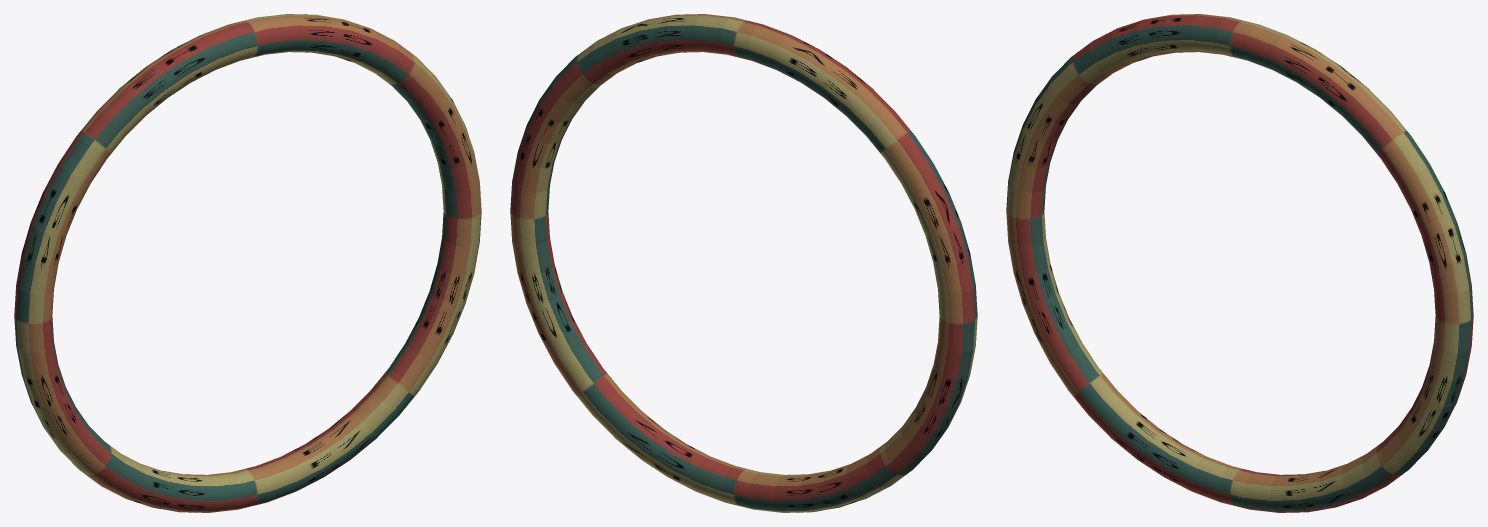
Rendered from texture_torus_R24_r0.glb.
The picture shows the model from 3 angles, left to right: view 1: azimuth 30°, elevation 25°; view 2: azimuth 150°, elevation 25°; view 3: azimuth 330°, elevation 25°; orthographic projection.
Parts seen in each view (by area): view 1: world; view 2: world; view 3: world.
Boxes of the visible parts, box(x1,y1,x2,y2) form: world: box(14, 14, 481, 512); world: box(510, 14, 977, 512); world: box(1006, 14, 1473, 512).
Size of the model in its own units: 28 by 27.94 by 2.
Materials: 1 (1 with a texture image).
